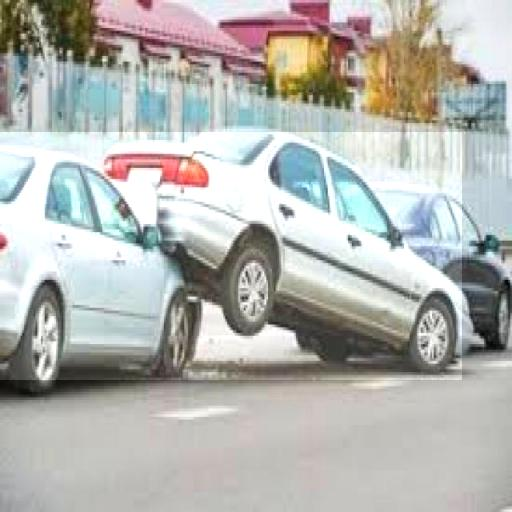小汽车撞小汽车: (0, 132, 462, 380)
